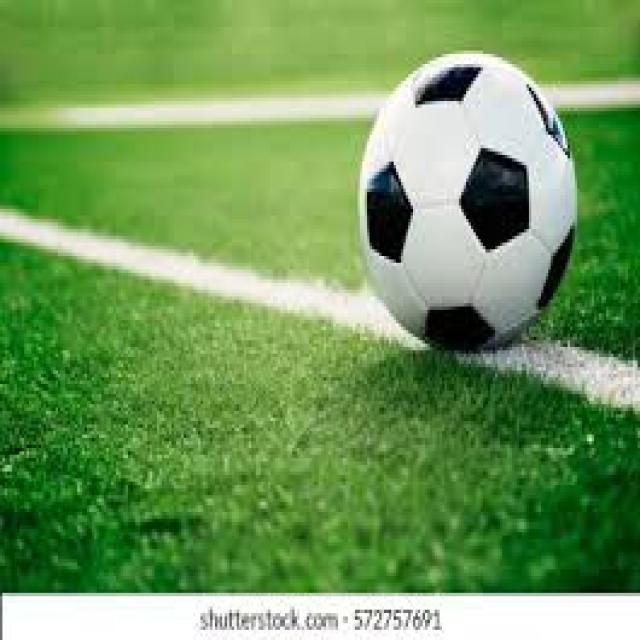football: (358, 51, 580, 350)
